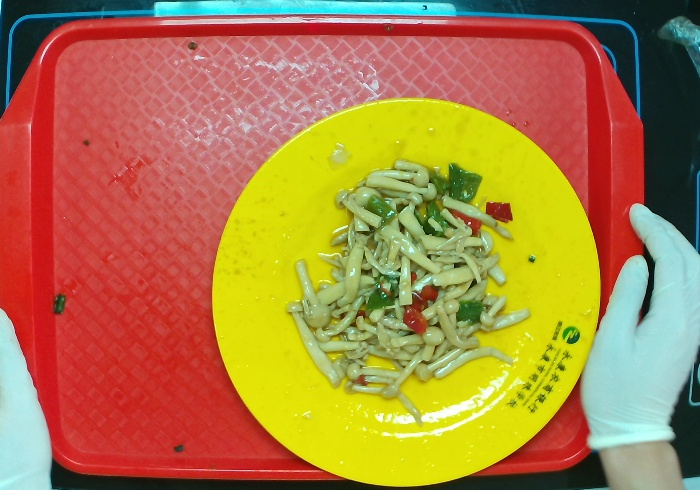YKMZ-Huang_Se_Mian_Pan: (194, 86, 621, 490)
